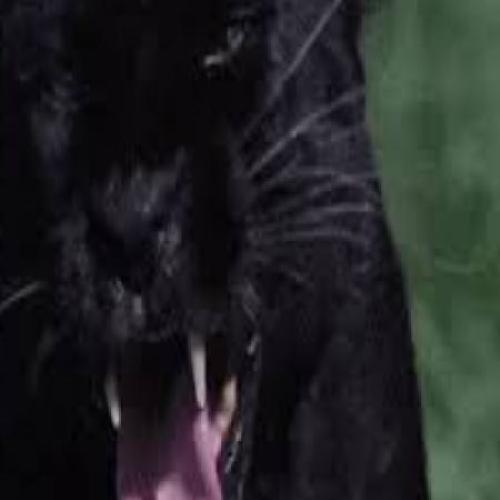panther-endangered: (13, 17, 428, 488)
